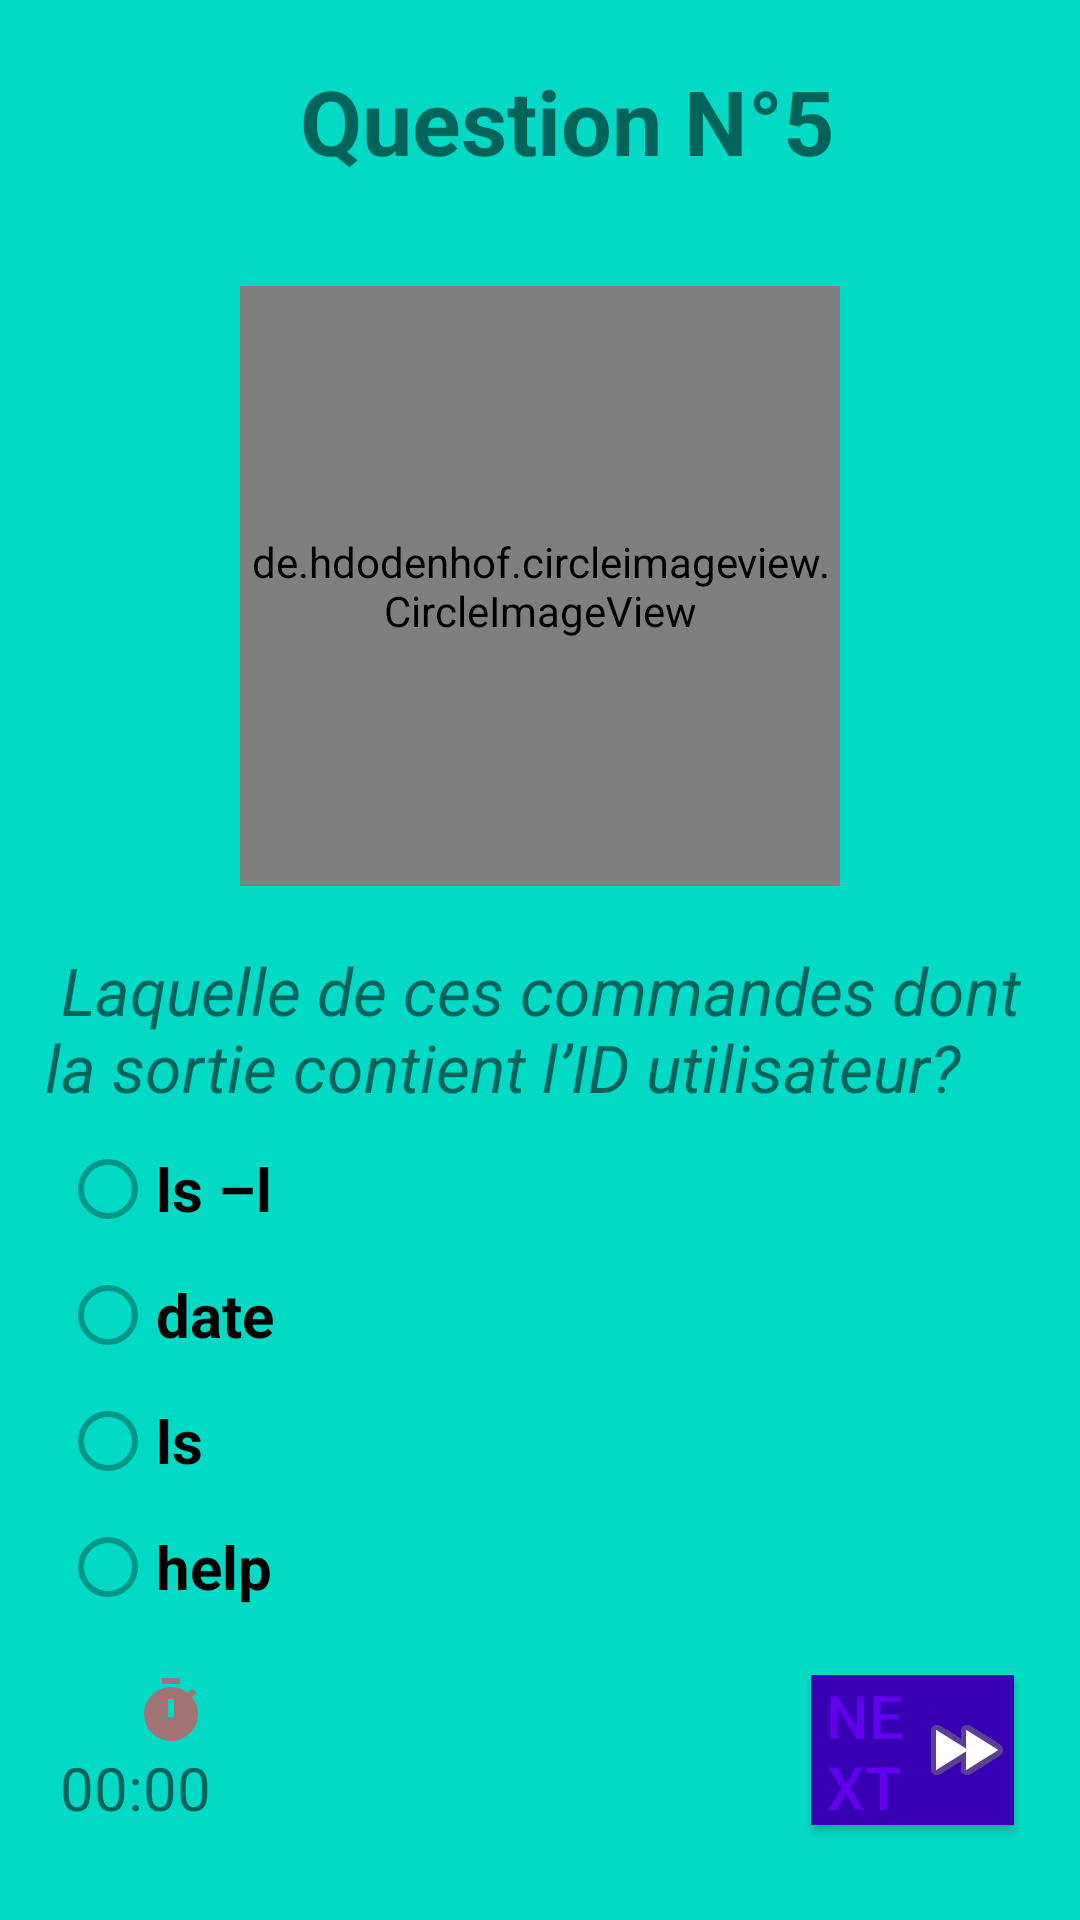

Screen size 1080 x 1920. Icon name, then its box in pixels as (x1, y1, x2, y2):
timer: (144, 1678, 198, 1741)
